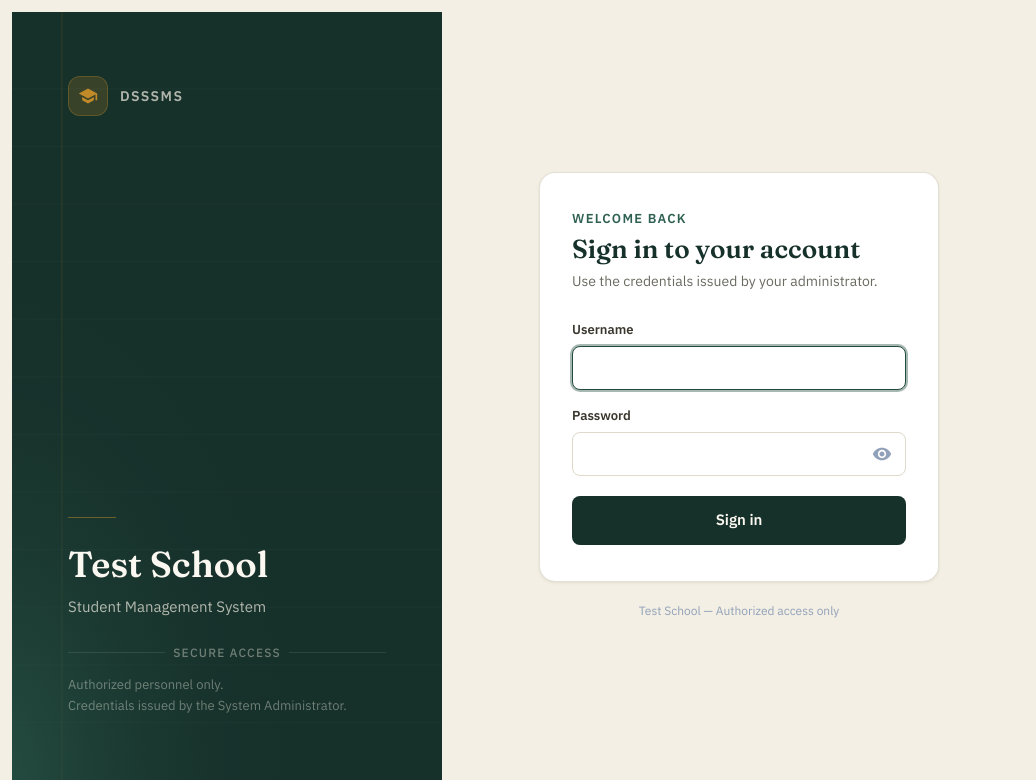
Test: C. LoginPage › shows validation error when submitting with empty username
The image size is (1036, 780).
Click the button "Sign in".
click(739, 521)  # box [572,496,906,545]
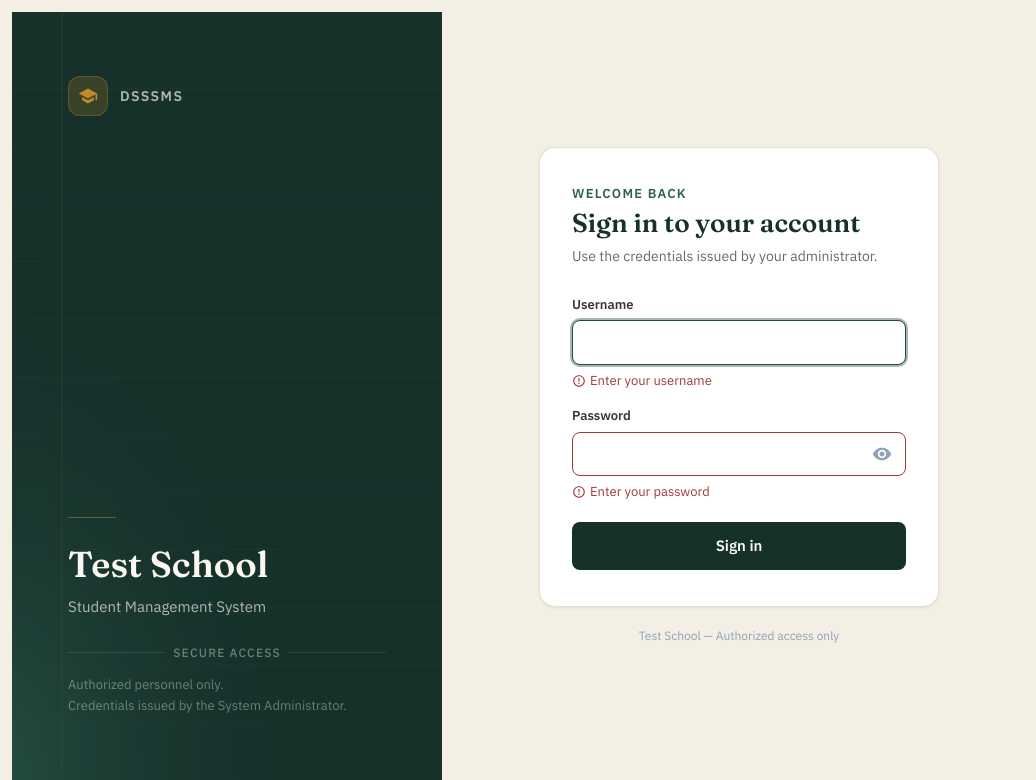
Expected: the text "Enter your username" is shown, [572,372,712,389]
